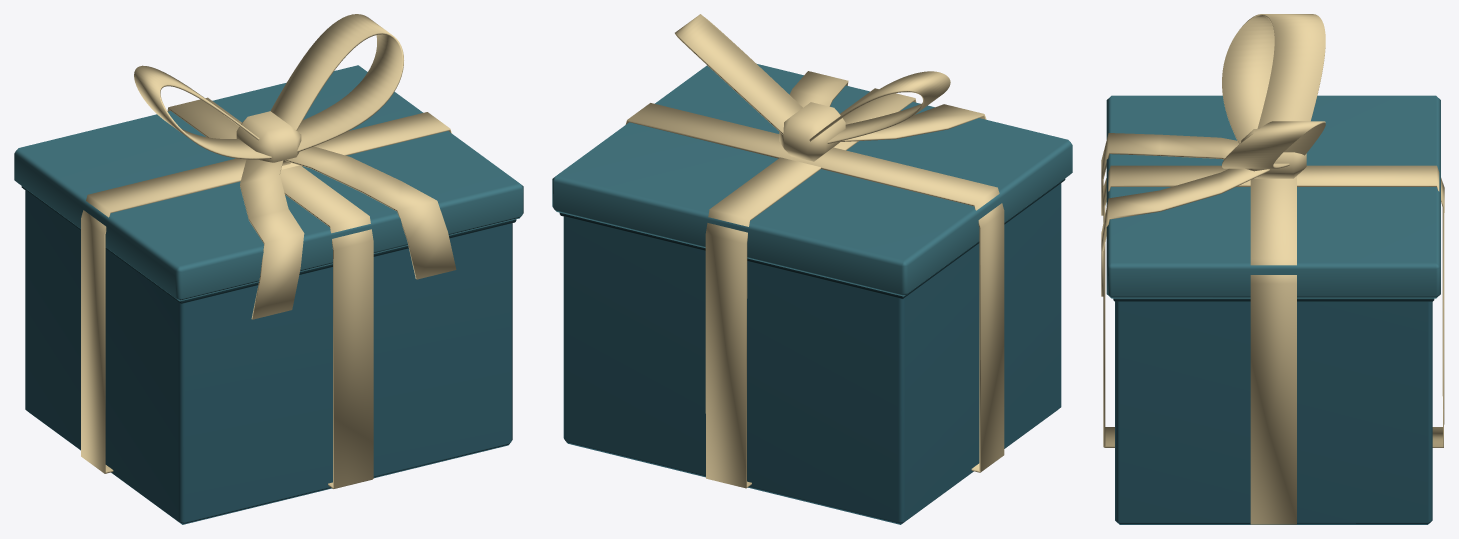
Rendered from P009_ribbon_gift_rebuilt.glb.
The picture shows the model from 3 angles, left to right: view 1: azimuth 30°, elevation 25°; view 2: azimuth 150°, elevation 25°; view 3: azimuth 270°, elevation 25°; orthographic projection. The views are drawn at different scales.
Parts seen in each view (by area): view 1: Gift_deep_blue_coated_paper, Gift_warm_ivory_satin, Gift_blue_lid, Gift_lid_seam_shadow; view 2: Gift_deep_blue_coated_paper, Gift_blue_lid, Gift_warm_ivory_satin, Gift_lid_seam_shadow; view 3: Gift_deep_blue_coated_paper, Gift_blue_lid, Gift_warm_ivory_satin, Gift_lid_seam_shadow.
Part boxes in pixels (x1,y1,x2,y2): Gift_deep_blue_coated_paper: (25, 190, 512, 524); Gift_warm_ivory_satin: (81, 14, 456, 488); Gift_blue_lid: (14, 65, 523, 301); Gift_lid_seam_shadow: (21, 186, 516, 303); Gift_deep_blue_coated_paper: (563, 183, 1061, 524); Gift_blue_lid: (552, 64, 1072, 296); Gift_warm_ivory_satin: (625, 14, 1004, 488); Gift_lid_seam_shadow: (559, 179, 1065, 298); Gift_deep_blue_coated_paper: (1115, 301, 1432, 524); Gift_blue_lid: (1106, 95, 1440, 298); Gift_warm_ivory_satin: (1101, 14, 1444, 524); Gift_lid_seam_shadow: (1113, 298, 1434, 301).
Size of the model in its own units: 0.2492 by 0.2514 by 0.2082.
